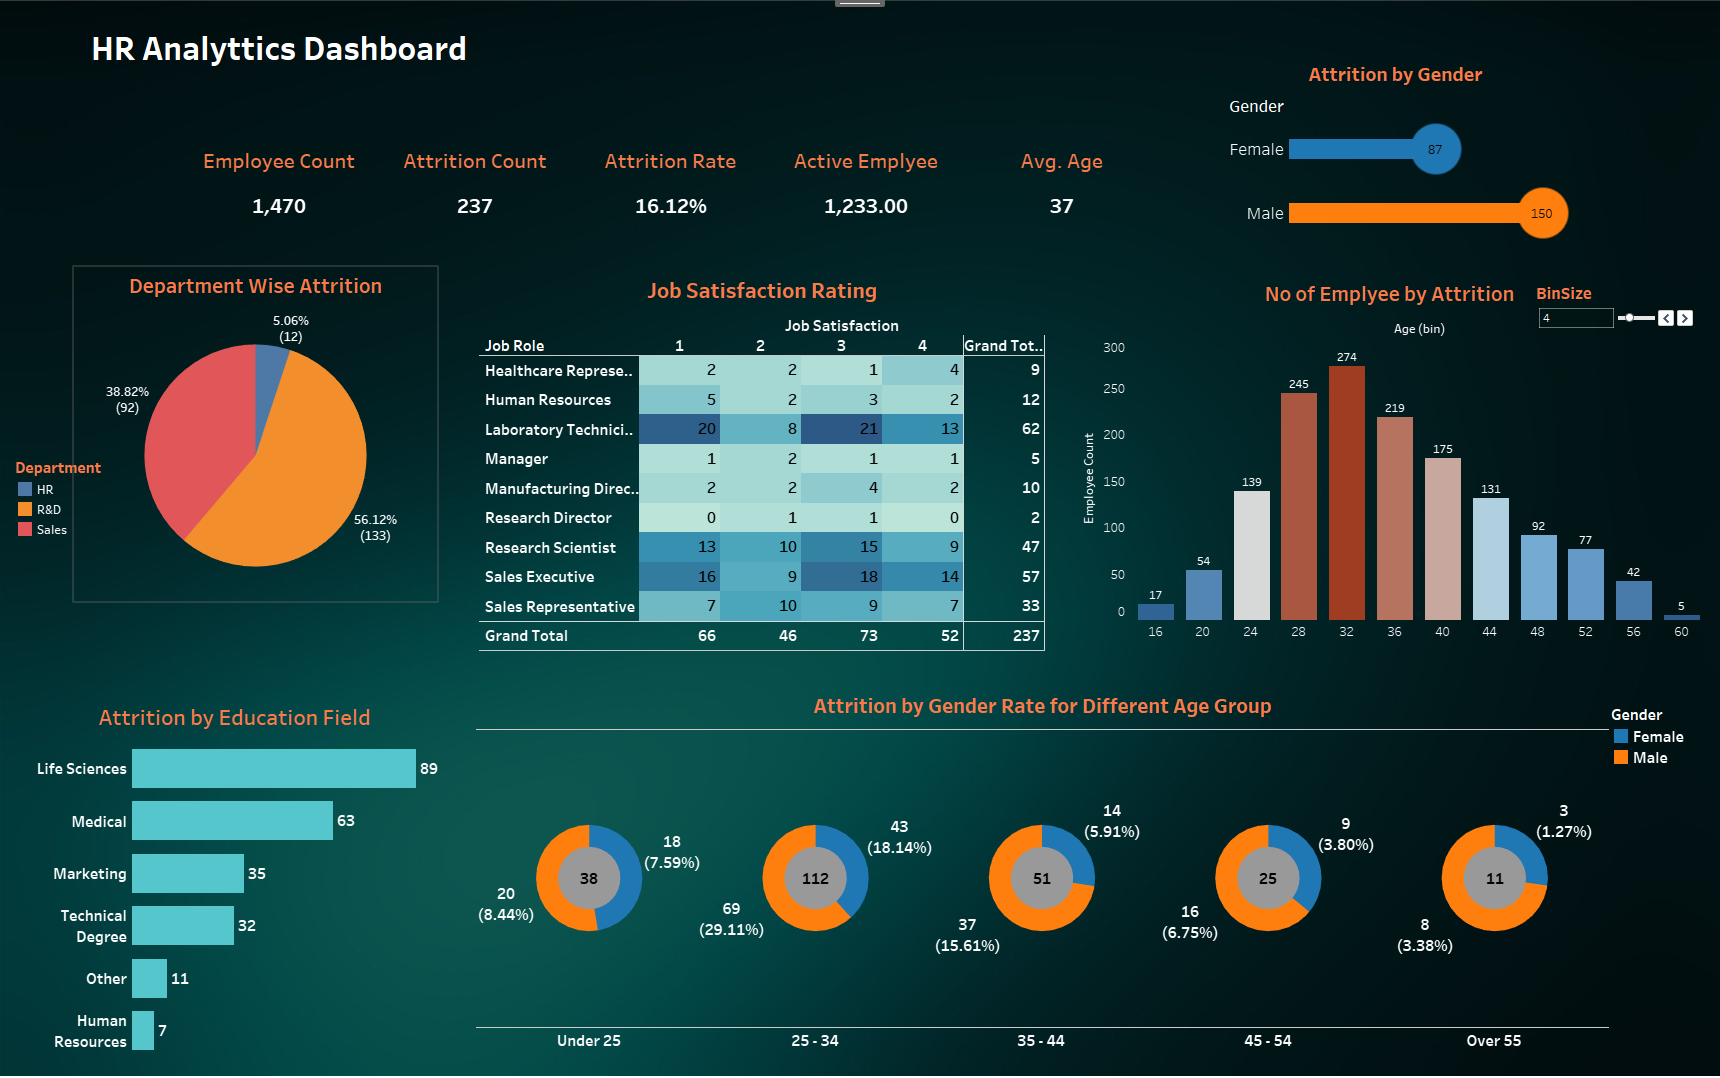

This screenshot's page, from the dashboard's own definition file:
{"tool":"tableau","page":{"name":"HR Analytics Dashboard","canvas":[1900,1100],"ordinal":0},"visuals":[{"type":"image","param":"Image/J2qeQg.jpg","box":[8,8,1884,1084]},{"type":"text","box":[94,17,550,85]},{"type":"worksheet","title":"Attrition by Gender","mark":"Automatic","rows":["Gender"],"cols":["Calculation_652740504421244928","Calculation_652740504421244928"],"box":[1299,68,373,189]},{"type":"worksheet","title":"KPI","mark":"Automatic","box":[271,146,979,103]},{"type":"worksheet","title":"Department Wise Attrition","mark":"Pie","box":[164,274,363,334]},{"type":"worksheet","title":"Job Satisfaction Rating","mark":"Square","rows":["Job Role"],"cols":["Job Satisfaction"],"box":[569,283,566,380]},{"type":"worksheet","title":"No of Emplyee by Attrition","mark":"Automatic","rows":["Employee Count"],"cols":["Age (bin)"],"box":[1163,287,633,366]},{"type":"parameter","param":"[Parameters].[Parameter 1]","box":[1585,318,160,55]},{"type":"legend","title":"Department Wise Attrition","param":"[federated.11rqxm51xhmzpj1coyqrj1sawtd9].[none:Department:nk]","box":[105,469,92,89]},{"type":"worksheet","title":"Attrition by Gender Rate for Different Age Group","mark":"Pie","rows":["Calculation_652740504501923844","Calculation_652740504501923844"],"cols":["CF_age band"],"box":[547,691,1133,366]},{"type":"worksheet","title":"Attrition by Education Field","mark":"Automatic","rows":["Education Field"],"cols":["Calculation_652740504421244928"],"box":[102,710,445,359]},{"type":"legend","title":"Attrition by Gender Rate for Different Age Group","param":"[federated.11rqxm51xhmzpj1coyqrj1sawtd9].[none:Gender:nk]","box":[1690,731,108,58]}]}

Visuals, with their boxes on the page's 1900x1100 design canvas (x1, y1, x2, y2). These are canvas units, not pixel positions in the 1720x1078 screenshot, which may show the page scaled, cropped or inside an application window:
image: 8:8:1892:1092
text: 94:17:644:102
"Attrition by Gender" worksheet: 1299:68:1672:257
"KPI" worksheet: 271:146:1250:249
"Department Wise Attrition" worksheet (Pie marks): 164:274:527:608
"Job Satisfaction Rating" worksheet (Square marks): 569:283:1135:663
"No of Emplyee by Attrition" worksheet: 1163:287:1796:653
parameter: 1585:318:1745:373
"Department Wise Attrition" legend: 105:469:197:558
"Attrition by Gender Rate for Different Age Group" worksheet (Pie marks): 547:691:1680:1057
"Attrition by Education Field" worksheet: 102:710:547:1069
"Attrition by Gender Rate for Different Age Group" legend: 1690:731:1798:789
